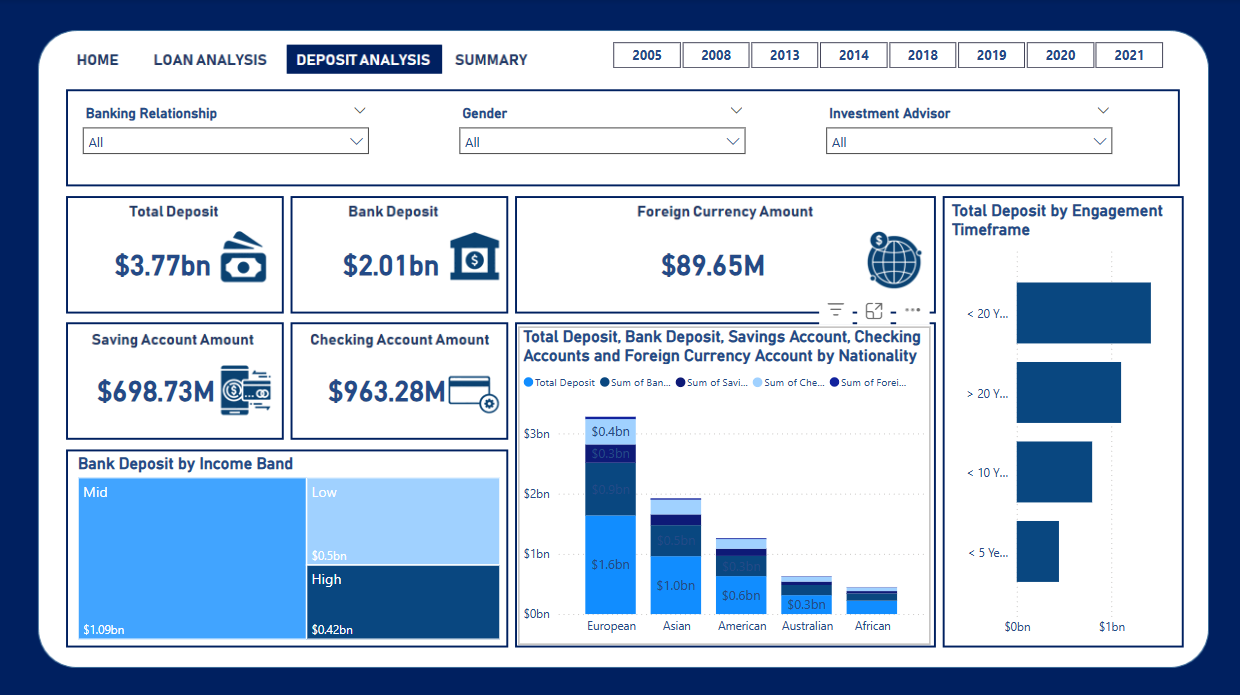

Layout of this report page (visuals, bound fields, positions):
{"tool":"powerbi","page":{"name":"Deposit Analysis","canvas":[1280,720],"ordinal":2},"visuals":[{"type":"actionButton","box":[65.8,40,72.5,41.7],"z":0},{"type":"actionButton","box":[459.2,40,92.5,41.7],"z":1000},{"type":"actionButton","box":[147.5,40,134.2,41.7],"z":2000},{"type":"slicer","fields":{"Values":["banking_analysis customer.Joining Year"]},"box":[606.5,37.1,615.4,33.6],"z":3000},{"type":"card","fields":{"Values":["banking_analysis customer.Total Deposit"]},"box":[47.7,215.7,242.3,111.4],"z":7000},{"type":"card","fields":{"Values":["Sum(banking_analysis customer.Bank Deposits)"]},"box":[282.9,215.7,242.3,111.4],"z":8000},{"type":"card","fields":{"Values":["Sum(banking_analysis customer.Saving Accounts)"]},"box":[40.7,346.6,242.3,111.4],"z":9000},{"type":"card","fields":{"Values":["Sum(banking_analysis customer.Checking Accounts)"]},"box":[277.6,346.6,242.3,111.4],"z":10000},{"type":"card","fields":{"Values":["Sum(banking_analysis customer.Foreign Currency Account)"]},"box":[613.6,215.7,242.3,111.4],"z":11000},{"type":"treemap","title":"Bank Deposit by Income Band","fields":{"Group":["banking_analysis customer.Income Band"],"Values":["Sum(banking_analysis customer.Bank Deposits)"]},"box":[76,468,444,196],"z":12000},{"type":"columnChart","title":"Total Deposit, Bank Deposit, Savings Account, Checking Accounts and Foreign Currency Account by Nationality","fields":{"Category":["banking_analysis customer.Nationality"],"Y":["banking_analysis customer.Total Deposit","Sum(banking_analysis customer.Bank Deposits)","Sum(banking_analysis customer.Saving Accounts)","Sum(banking_analysis customer.Checking Accounts)","Sum(banking_analysis customer.Foreign Currency Account)"]},"box":[535,337.5,423.8,326.2],"z":13000},{"type":"clusteredBarChart","title":"Total Deposit by Engagement Timeframe","fields":{"Category":["banking_analysis customer.Engagement Timeframe"],"Y":["banking_analysis customer.Total Deposit"]},"box":[976,208,237,457],"z":14000},{"type":"slicer","title":"Banking Relationship","fields":{"Values":["banking_analysis customer.Banking Relationship"]},"box":[76,104,314,86],"z":14001},{"type":"slicer","title":"Banking Relationship","fields":{"Values":["banking_analysis customer.Gender"]},"box":[464,104,314,86],"z":14002},{"type":"slicer","title":"Banking Relationship","fields":{"Values":["banking_analysis customer.Investment Advisor"]},"box":[842,104,314,86],"z":14003}]}

Visuals, with their boxes in screenshot pixels (x1, y1, x2, y2), scaled from the page's 1280x720 canvas onto the 1240x695 screenshot:
actionButton: pyautogui.locateOnScreen(64, 39, 134, 79)
actionButton: pyautogui.locateOnScreen(445, 39, 534, 79)
actionButton: pyautogui.locateOnScreen(143, 39, 273, 79)
slicer - banking_analysis customer.Joining Year: pyautogui.locateOnScreen(588, 36, 1184, 68)
card - banking_analysis customer.Total Deposit: pyautogui.locateOnScreen(46, 208, 281, 316)
card - Sum(banking_analysis customer.Bank Deposits): pyautogui.locateOnScreen(274, 208, 509, 316)
card - Sum(banking_analysis customer.Saving Accounts): pyautogui.locateOnScreen(39, 335, 274, 442)
card - Sum(banking_analysis customer.Checking Accounts): pyautogui.locateOnScreen(269, 335, 504, 442)
card - Sum(banking_analysis customer.Foreign Currency Account): pyautogui.locateOnScreen(594, 208, 829, 316)
"Bank Deposit by Income Band" treemap: pyautogui.locateOnScreen(74, 452, 504, 641)
"Total Deposit, Bank Deposit, Savings Account, Checking Accounts and Foreign Currency Account by Nationality" columnChart: pyautogui.locateOnScreen(518, 326, 929, 641)
"Total Deposit by Engagement Timeframe" clusteredBarChart: pyautogui.locateOnScreen(946, 201, 1175, 642)
"Banking Relationship" slicer: pyautogui.locateOnScreen(74, 100, 378, 183)
"Banking Relationship" slicer: pyautogui.locateOnScreen(450, 100, 754, 183)
"Banking Relationship" slicer: pyautogui.locateOnScreen(816, 100, 1120, 183)
